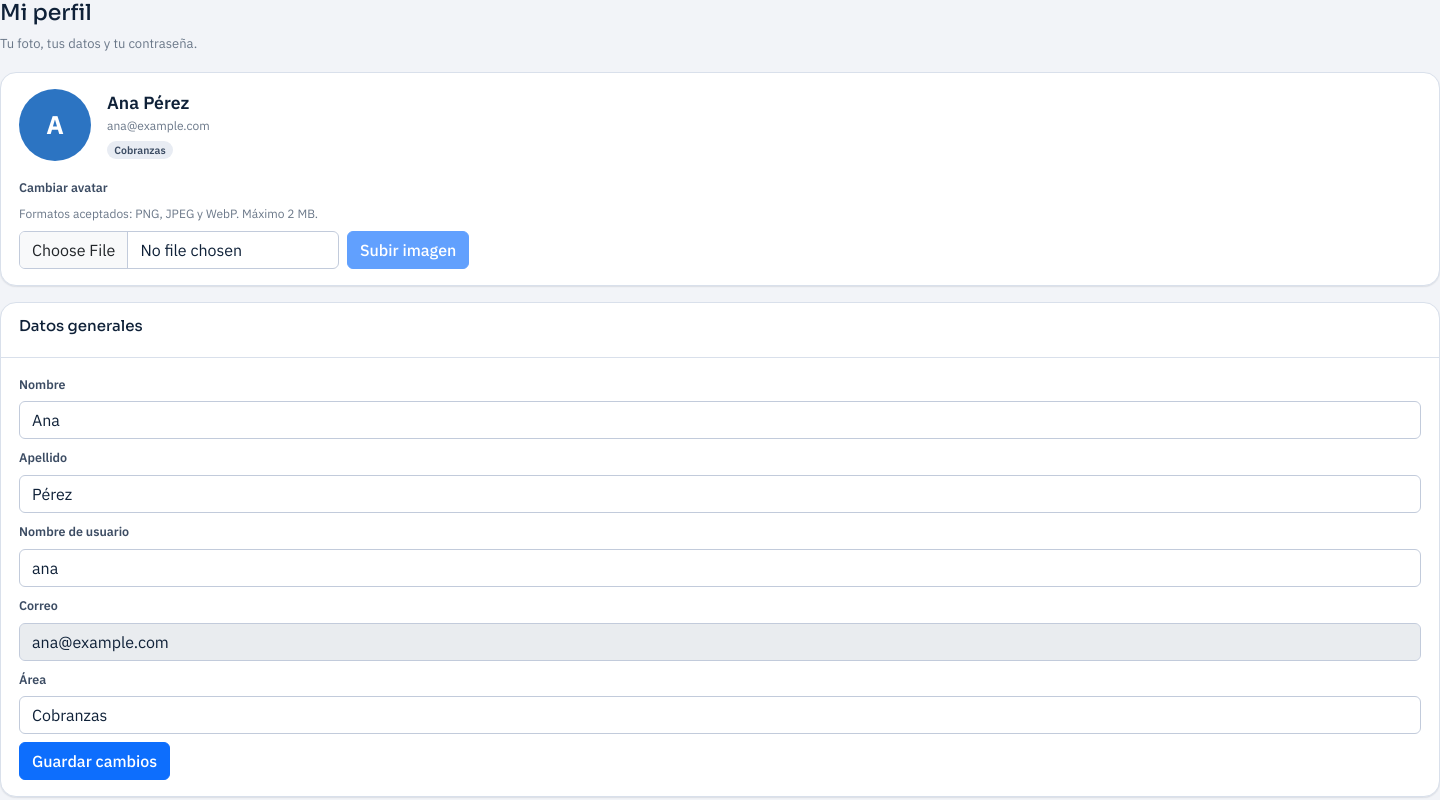
Test: ProfilePage › si falla guardar los datos generales, muestra el mensaje de error del backend
The image size is (1440, 800).
Step 1. Click the button "Guardar cambios" → {"x": 95, "y": 761}, box [19,742,170,780]
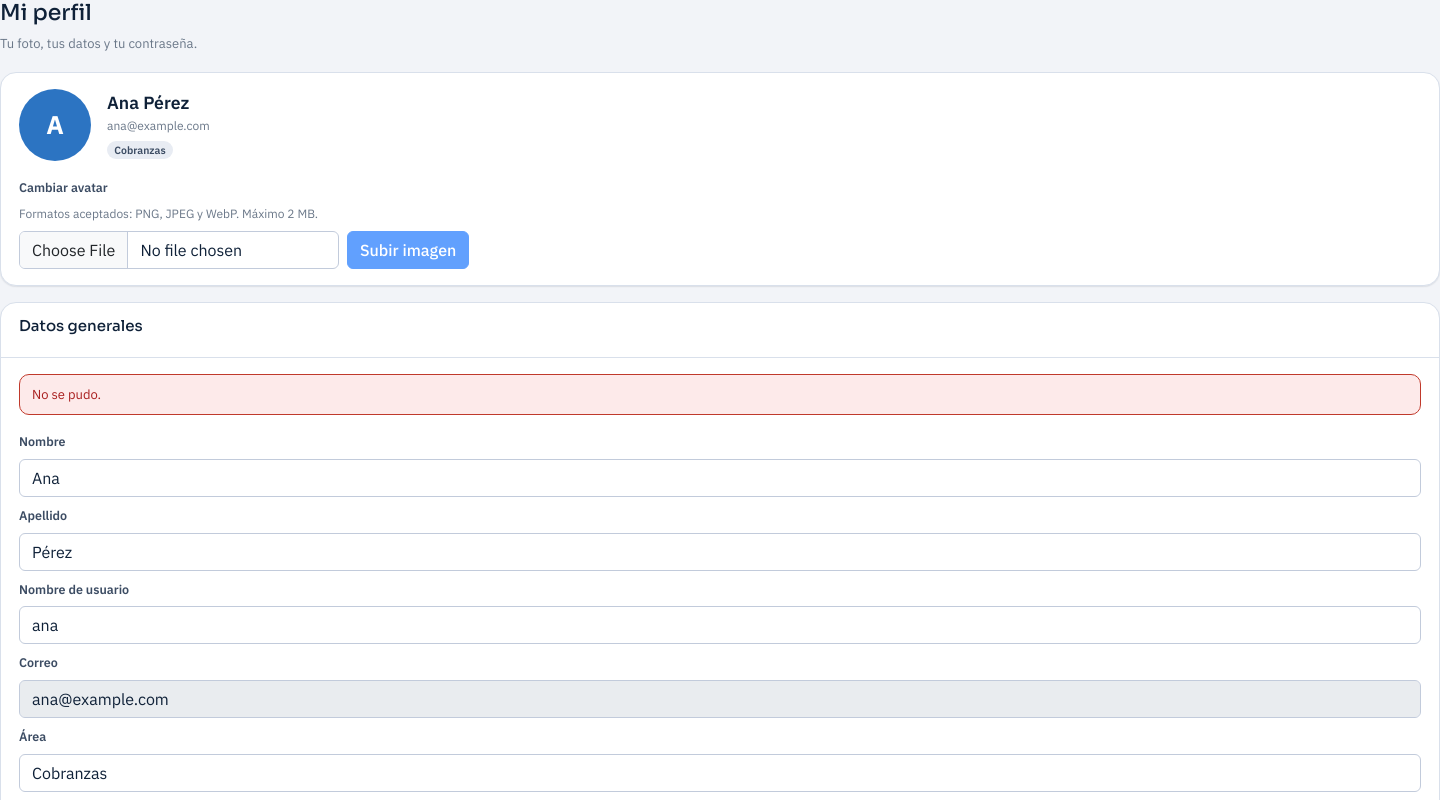
Expected: the text "No se pudo." is shown, [19,374,1421,415]
